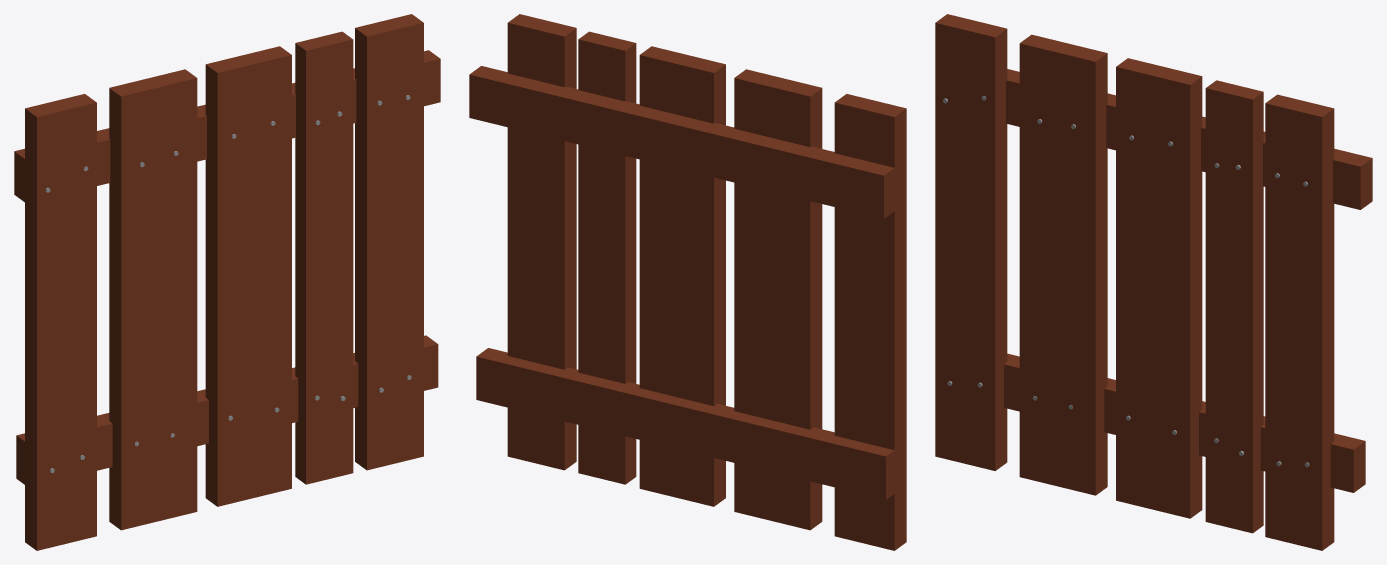
File: Fence.fbx
The picture shows the model from 3 angles, left to right: view 1: azimuth 30°, elevation 25°; view 2: azimuth 150°, elevation 25°; view 3: azimuth 330°, elevation 25°; orthographic projection.
Parts seen in each view (by area): view 1: Cylinder.009; view 2: Cylinder.009; view 3: Cylinder.009.
Part boxes in pixels (x1,y1,x2,y2): Cylinder.009: (14, 14, 440, 550); Cylinder.009: (469, 14, 906, 550); Cylinder.009: (935, 14, 1372, 550).
Size of the model in its own units: 400 by 400 by 39.56.
